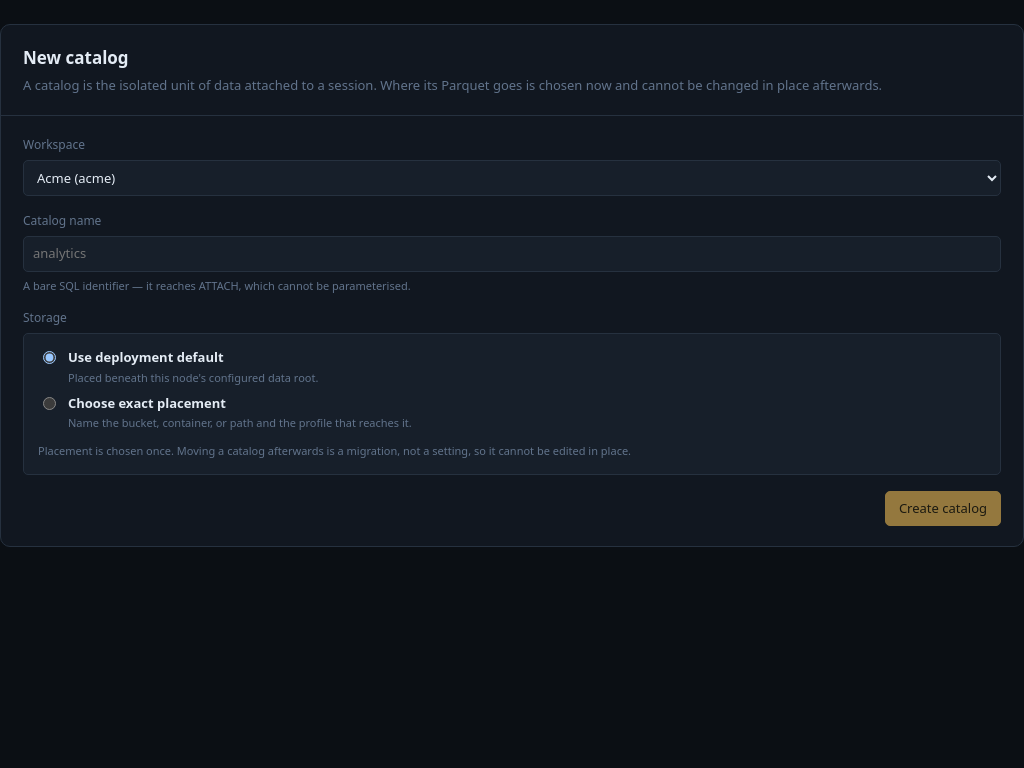
Scenario: CatalogAdministrationComponent › keeps the form populated when the server refuses the placement
The image size is (1024, 768).
Step 1. Type "ledger" into the field → (512, 254), box 23,236 -> 1001,272
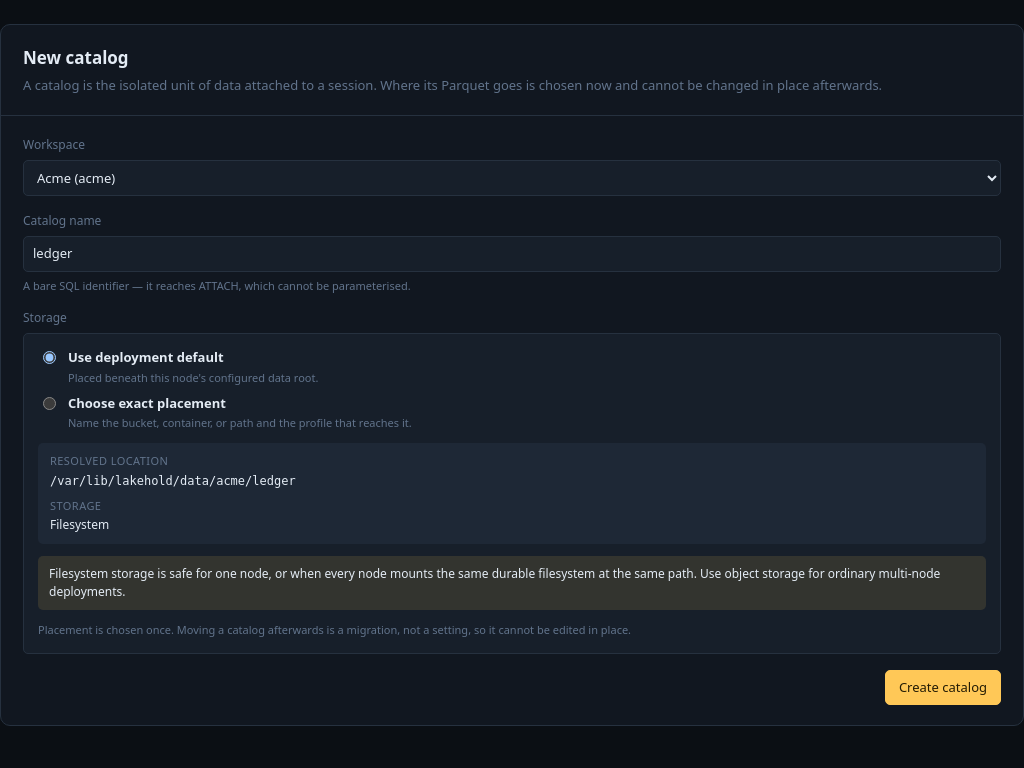
Step 2. Click the button "Create catalog" → click(943, 688), box 885,670 -> 1001,705
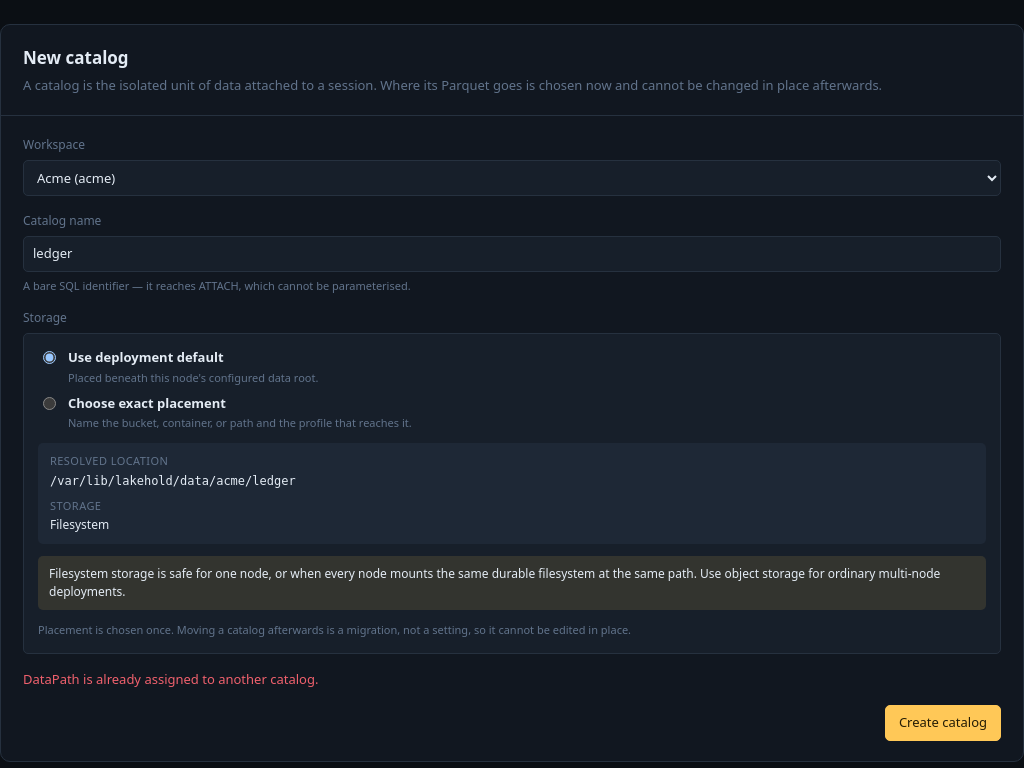
Expected: the text "already assigned to another catalog" is shown, 23,670 -> 318,688
